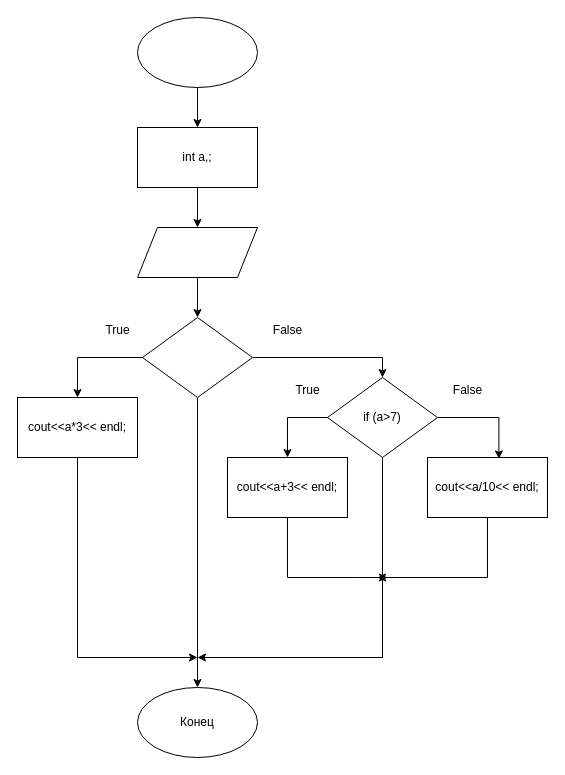
Some shapes in this 565 by 775 pixel diagram are drawn without their labels. The shapes that lost their labels are listed below. From the top down, each one's box as (x1, y1, x2, y2) in pixels, then its label:
(136, 16, 258, 88): Начало
(136, 226, 258, 278): cin >>a;
(142, 316, 252, 398): if (a<5)
